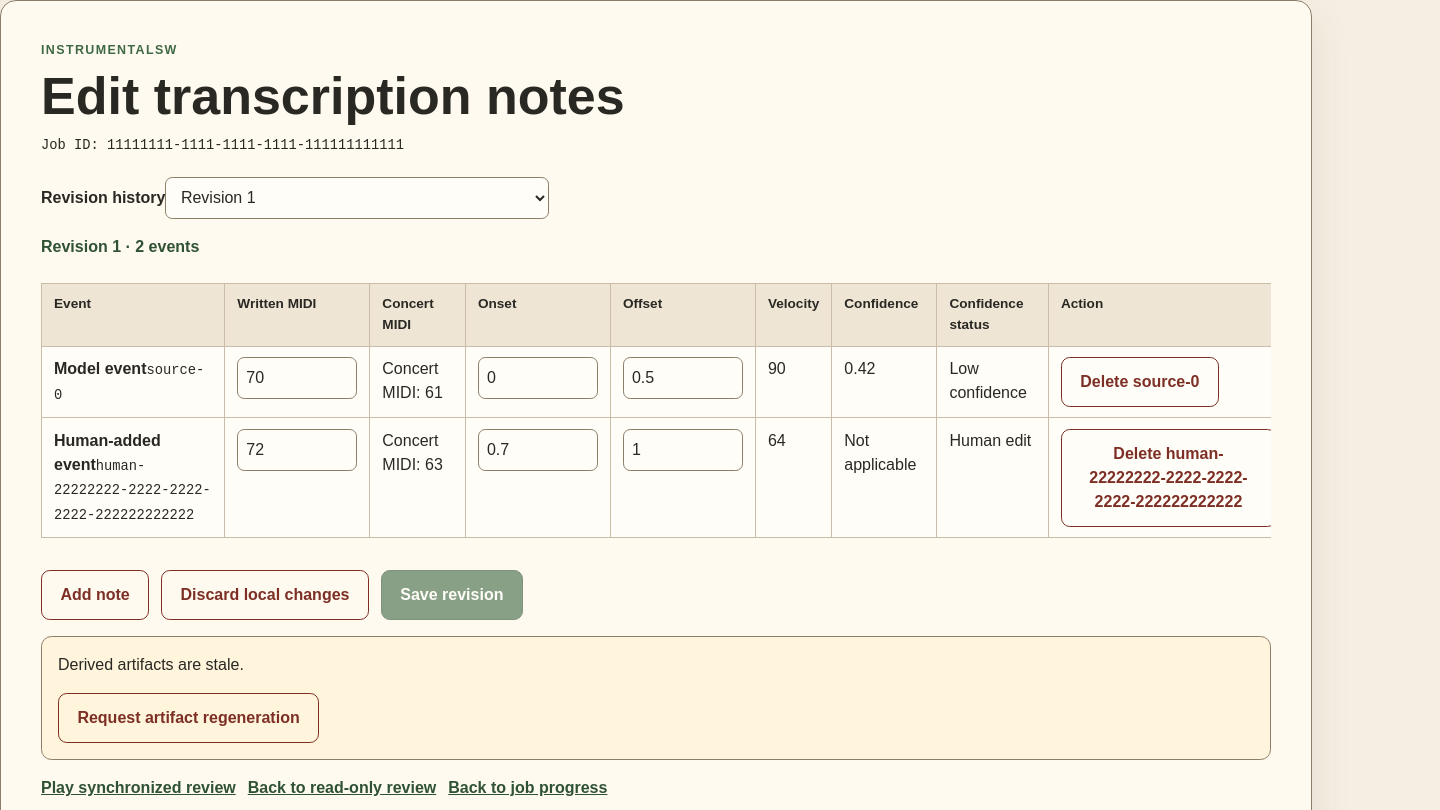
Scenario: TranscriptionRevisionEditor › records regeneration and honestly reports the missing worker
Step 1. Click the button "Request artifact regeneration" → x=189, y=718, box [58,693,319,743]
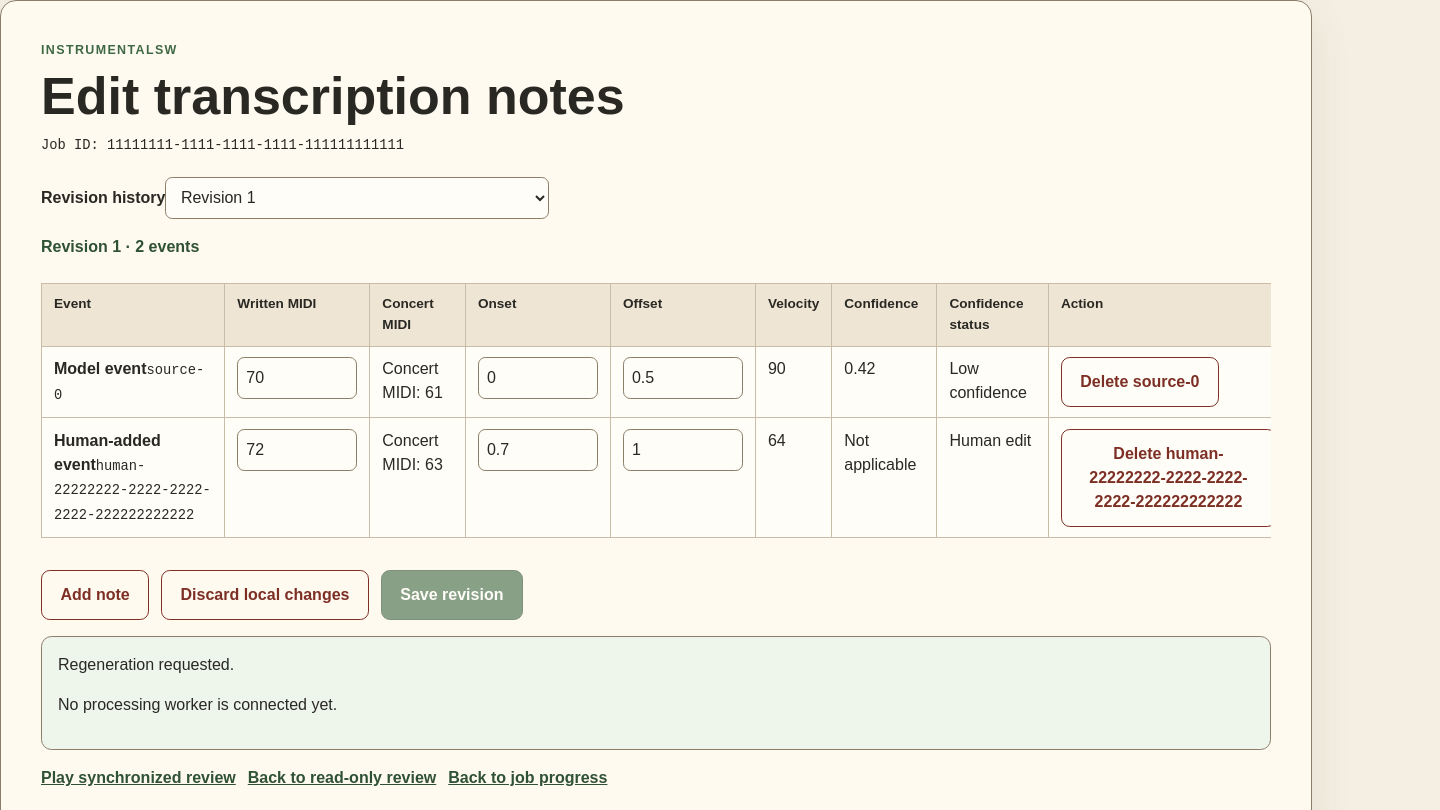
Result: the text "Regeneration requested." is shown at [58,656,234,673]
Result: the text "No processing worker is connected yet." is shown at [58,696,337,713]
